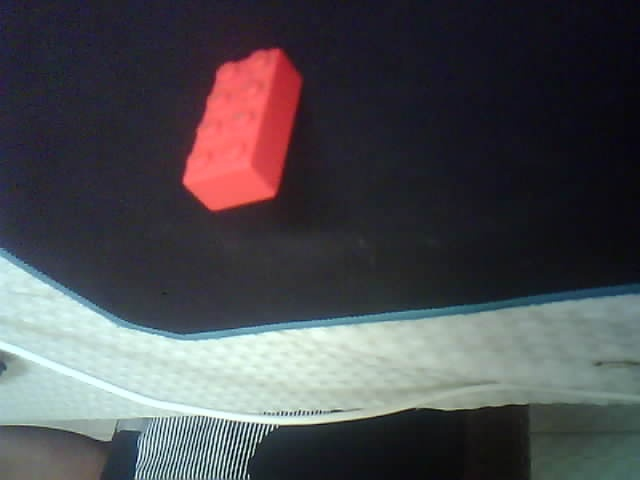lego: (180, 47, 303, 213)
